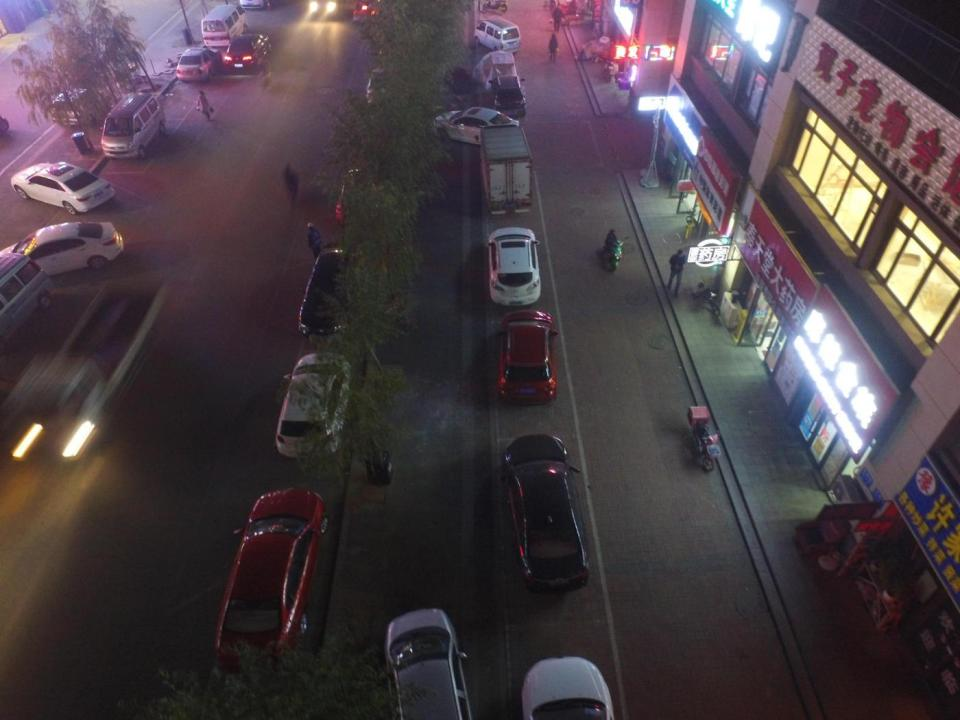car: (215, 488, 328, 669), (500, 435, 589, 594), (379, 607, 470, 720), (275, 352, 352, 459), (298, 243, 364, 342), (0, 222, 123, 275), (521, 656, 613, 720), (498, 309, 559, 405), (11, 162, 114, 214), (485, 227, 540, 305), (432, 107, 518, 147), (336, 169, 390, 227), (50, 88, 110, 127), (225, 34, 271, 67), (176, 48, 222, 80), (367, 68, 403, 104), (353, 0, 380, 21)
truck: (0, 279, 167, 457), (480, 124, 532, 215)
van: (0, 252, 52, 348), (101, 92, 166, 158), (202, 4, 248, 46), (474, 17, 521, 54), (488, 76, 527, 116)
